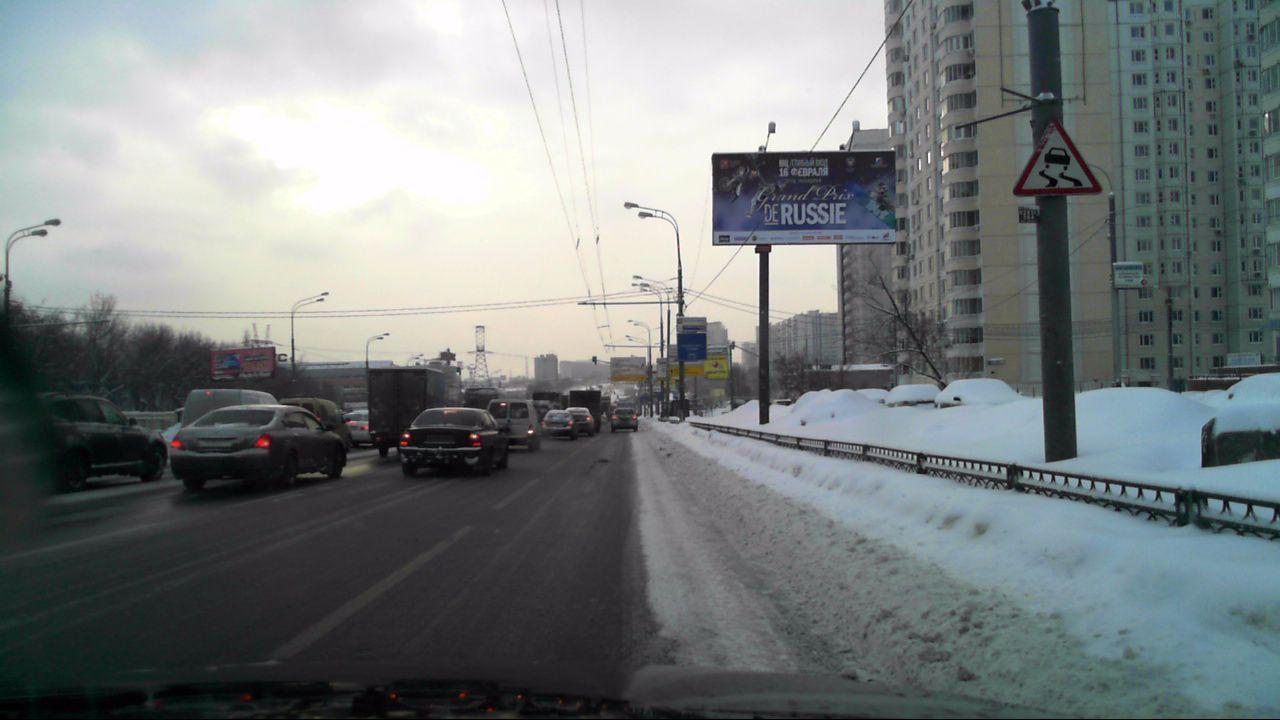1_15: (1009, 120, 1101, 197)
